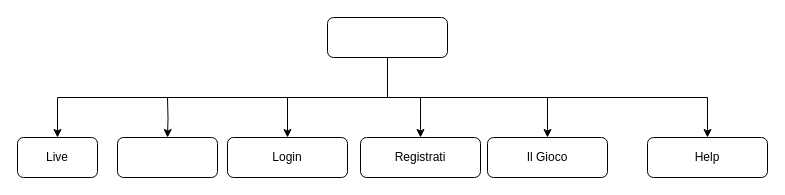
Some shapes in this 785 by 195 pixel diagram are drawn without their labels. The shapes that lost their labels are listed below. From the top down, each one's centre as x and y in pixels, then its label:
At point 387,37: "Home".
At point 167,157: "Bacheca".
